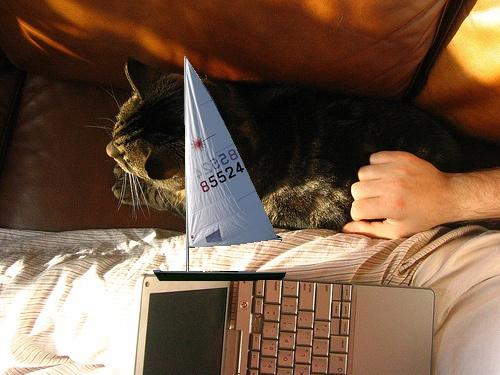tampered: (154, 55, 286, 281)
